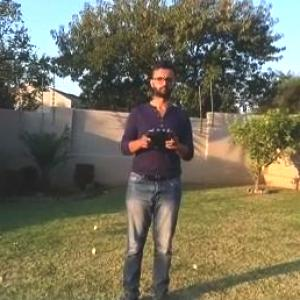follow: (113, 56, 199, 299)
